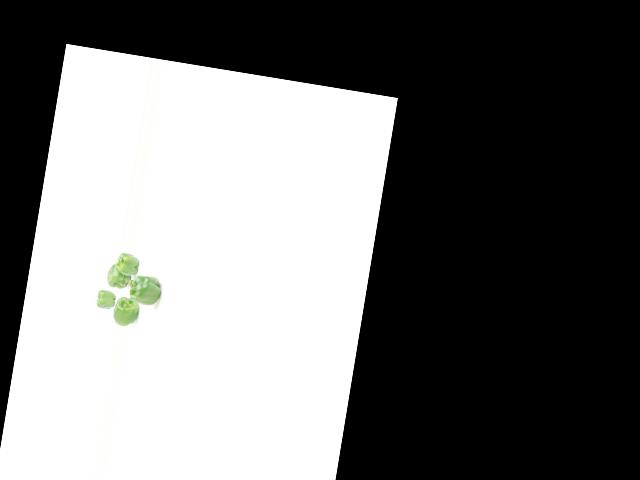bell_pepper: (115, 251, 143, 279)
